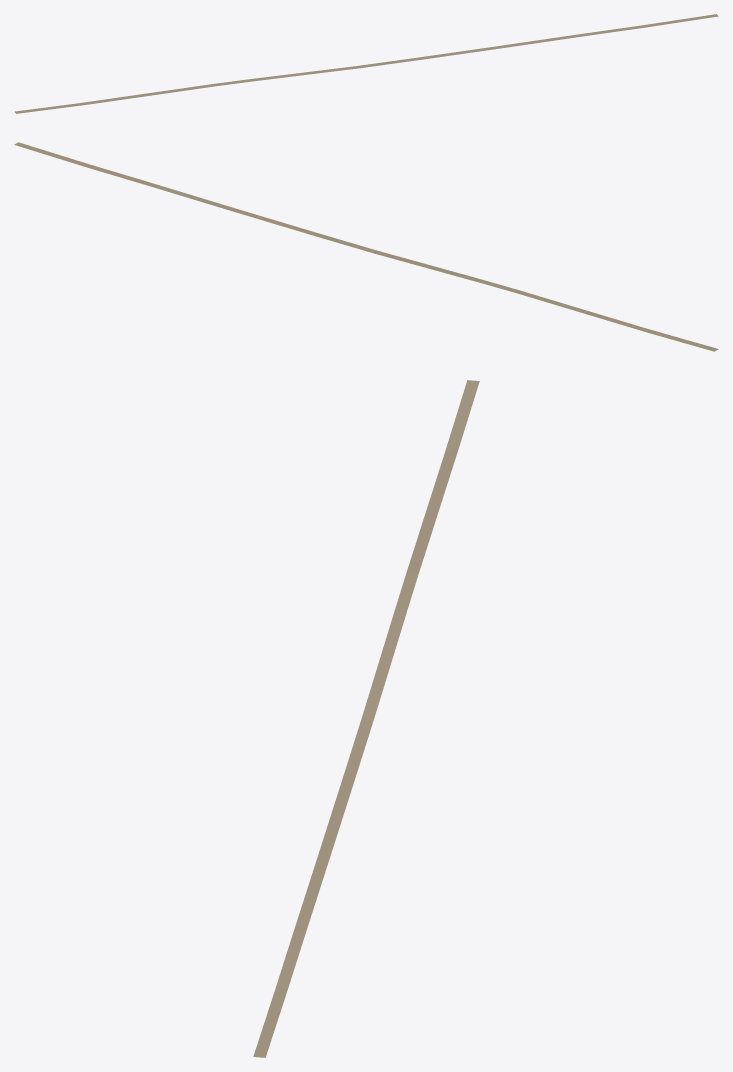
File: farm_4_12_track.glb
The picture shows the model from 3 angles, top to bottom: view 1: azimuth 30°, elevation 25°; view 2: azimuth 150°, elevation 25°; view 3: azimuth 270°, elevation 25°; orthographic projection. The views are drawn at different scales.
Visible parts, largest first — view 1: geometry_0; view 2: geometry_0; view 3: geometry_0.
Part boxes in pixels (x1=…): geometry_0: x1=14, y1=14, x2=718, y2=113; geometry_0: x1=14, y1=142, x2=718, y2=351; geometry_0: x1=253, y1=380, x2=479, y2=1057.
Size of the model in its own units: 393 by 12.58 by 59.37.
